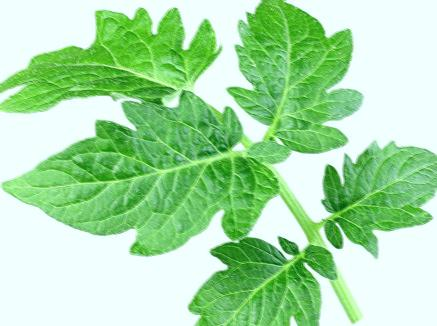Tomato leaf: (0, 91, 280, 277), (0, 0, 241, 141), (220, 0, 357, 176), (173, 212, 337, 326), (318, 137, 437, 267)
